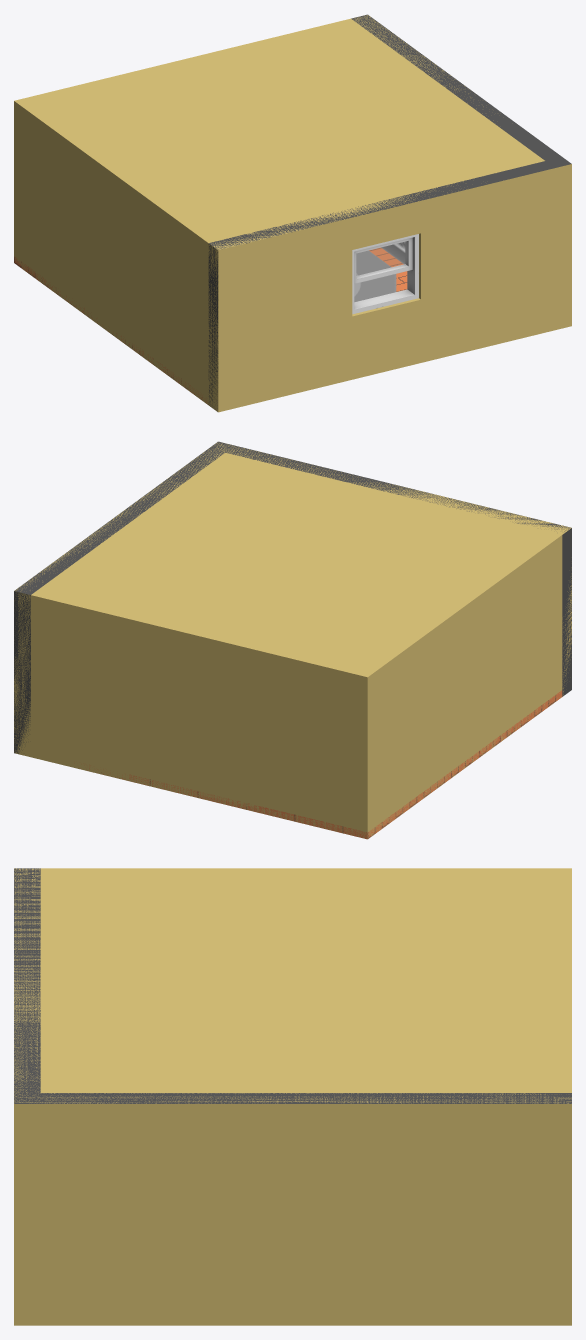
Rendered from cartoon_room.fbx.
3 views of the same model, one above another, from view 1: azimuth 30°, elevation 25°; view 2: azimuth 150°, elevation 25°; view 3: azimuth 270°, elevation 25° (orthographic). The views are drawn at different scales.
Visible parts, largest first — view 1: room_occlusion_mesh, walls_mesh, window_mesh, rug_mesh, ground_mesh; view 2: room_occlusion_mesh, walls_mesh, ground_mesh; view 3: walls_mesh, room_occlusion_mesh.
Boxes of the visible parts, x1,y1,x2,y2 form: room_occlusion_mesh: [14, 15, 544, 411]; walls_mesh: [208, 14, 571, 412]; window_mesh: [352, 234, 418, 314]; rug_mesh: [354, 250, 396, 302]; ground_mesh: [14, 247, 407, 404]; room_occlusion_mesh: [14, 443, 571, 838]; walls_mesh: [14, 441, 571, 753]; ground_mesh: [74, 690, 562, 839]; walls_mesh: [14, 868, 571, 1325]; room_occlusion_mesh: [14, 868, 571, 1103].
Size of the model in its own units: 5.25 by 2.3 by 5.25.
